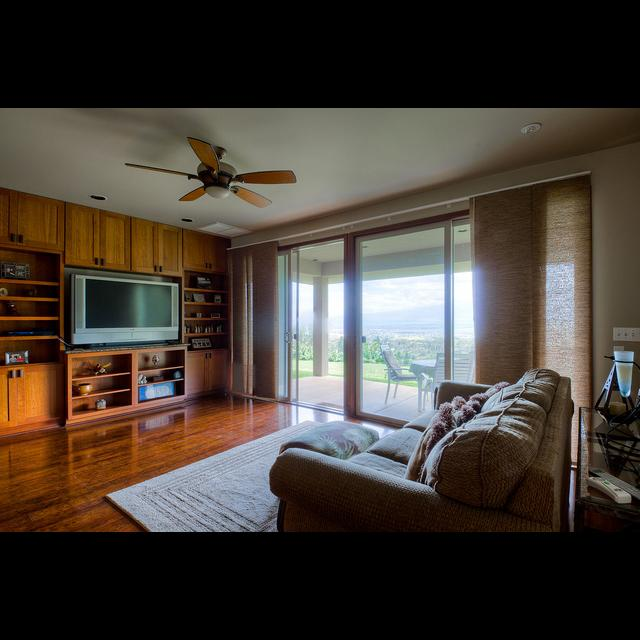Flat-Panel-TV: (70, 274, 179, 344)
TV-Remote-Control: (589, 470, 640, 500), (588, 476, 631, 503)
